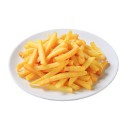frenchfries: (21, 32, 106, 90)
